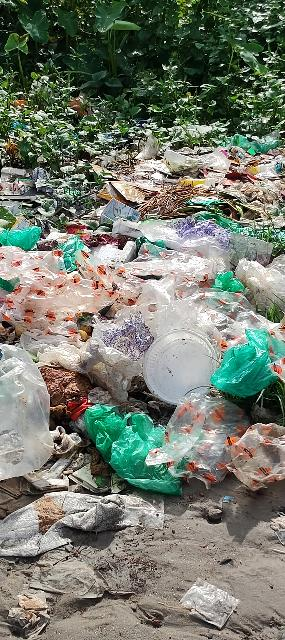polythene: (2, 189, 285, 523)
